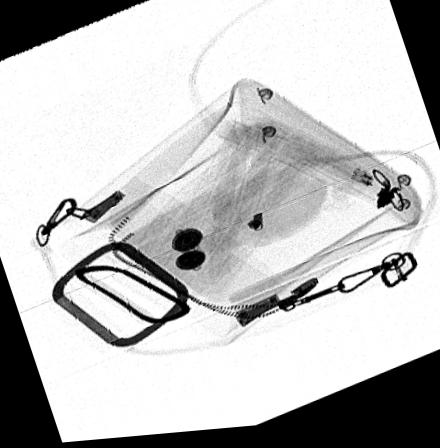Scissors: (367, 175, 404, 219)
